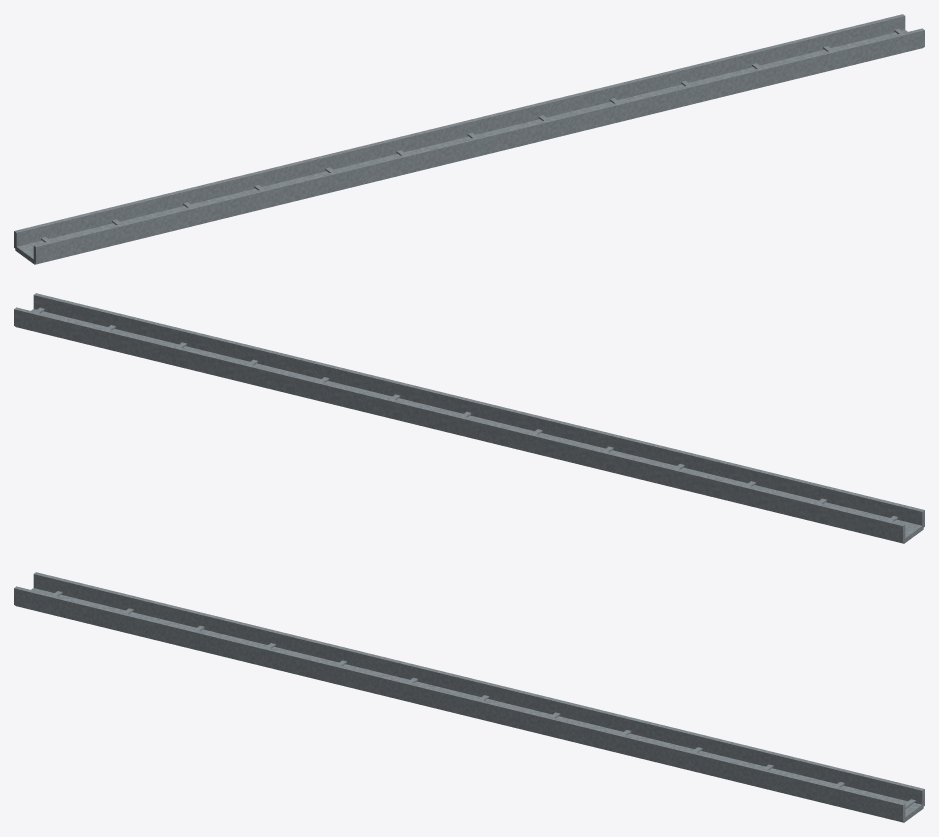
File: PZ_12_CableTray_10m.glb
The picture shows the model from 3 angles, top to bottom: view 1: azimuth 30°, elevation 25°; view 2: azimuth 150°, elevation 25°; view 3: azimuth 330°, elevation 25°; orthographic projection.
Parts seen in each view (by area): view 1: CABLE_TraySide_R, CABLE_TraySide_L, CABLE_TrayBottom; view 2: CABLE_TraySide_L, CABLE_TraySide_R, CABLE_TrayBottom; view 3: CABLE_TraySide_R, CABLE_TraySide_L, CABLE_TrayBottom.
Part boxes in pixels (box(x1,y1,x2,y2)): CABLE_TraySide_R: box(33, 28, 924, 263); CABLE_TraySide_L: box(14, 14, 905, 248); CABLE_TrayBottom: box(15, 30, 923, 264); CABLE_TraySide_L: box(14, 307, 905, 542); CABLE_TraySide_R: box(33, 293, 924, 528); CABLE_TrayBottom: box(15, 309, 923, 543); CABLE_TraySide_R: box(14, 586, 905, 821); CABLE_TraySide_L: box(33, 572, 924, 807); CABLE_TrayBottom: box(15, 588, 923, 822).
Size of the model in its own units: 10 by 0.2 by 0.43.
1 material, 1 textured.
